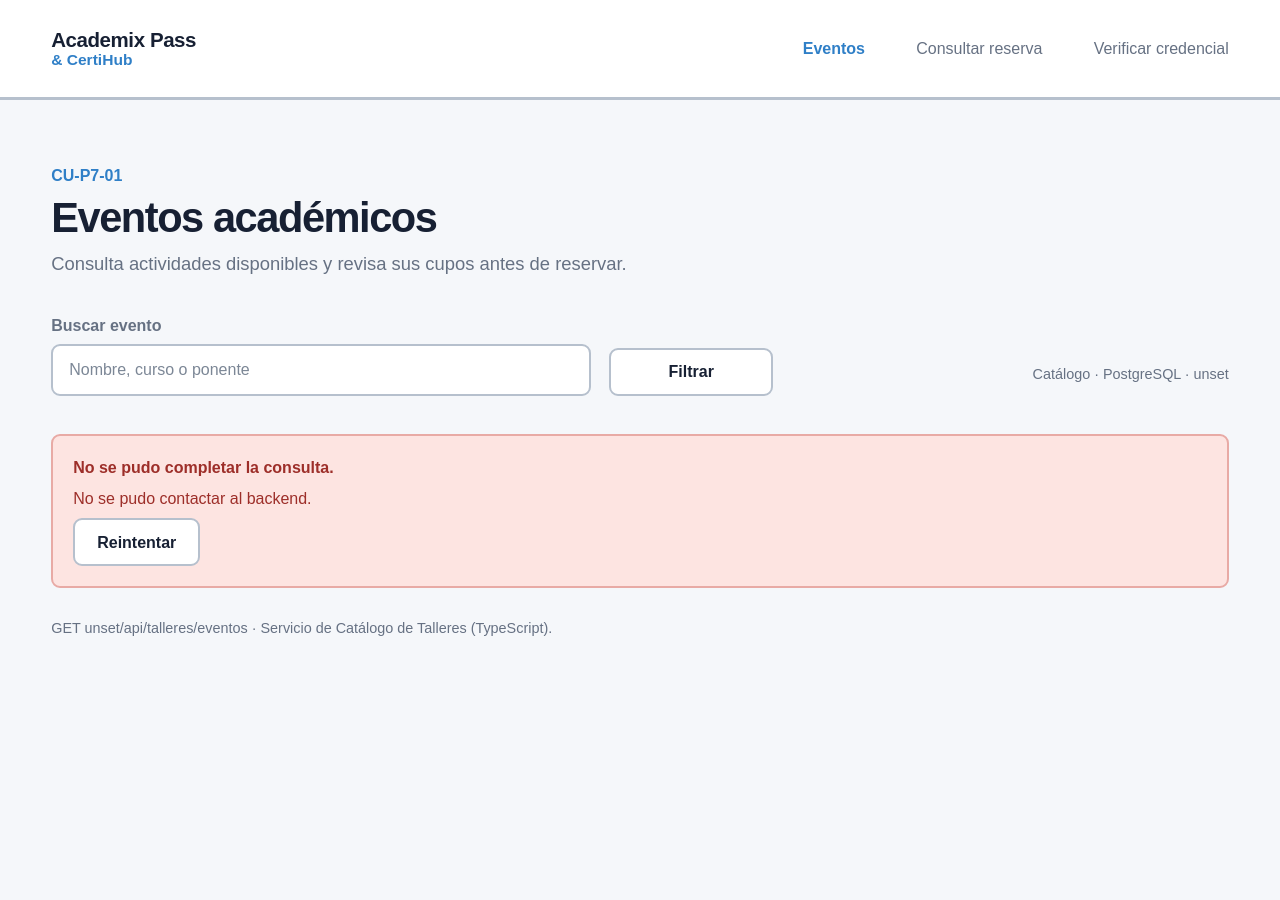
Test: Catálogo de eventos › muestra el estado de error y permite reintentar
This screenshot has width=1280, height=900.
Check: the text "No se pudo contactar al backend." is shown, box [73,487,312,510]
Click the button "Reintentar".
click(137, 542)  # box [73,518,200,566]
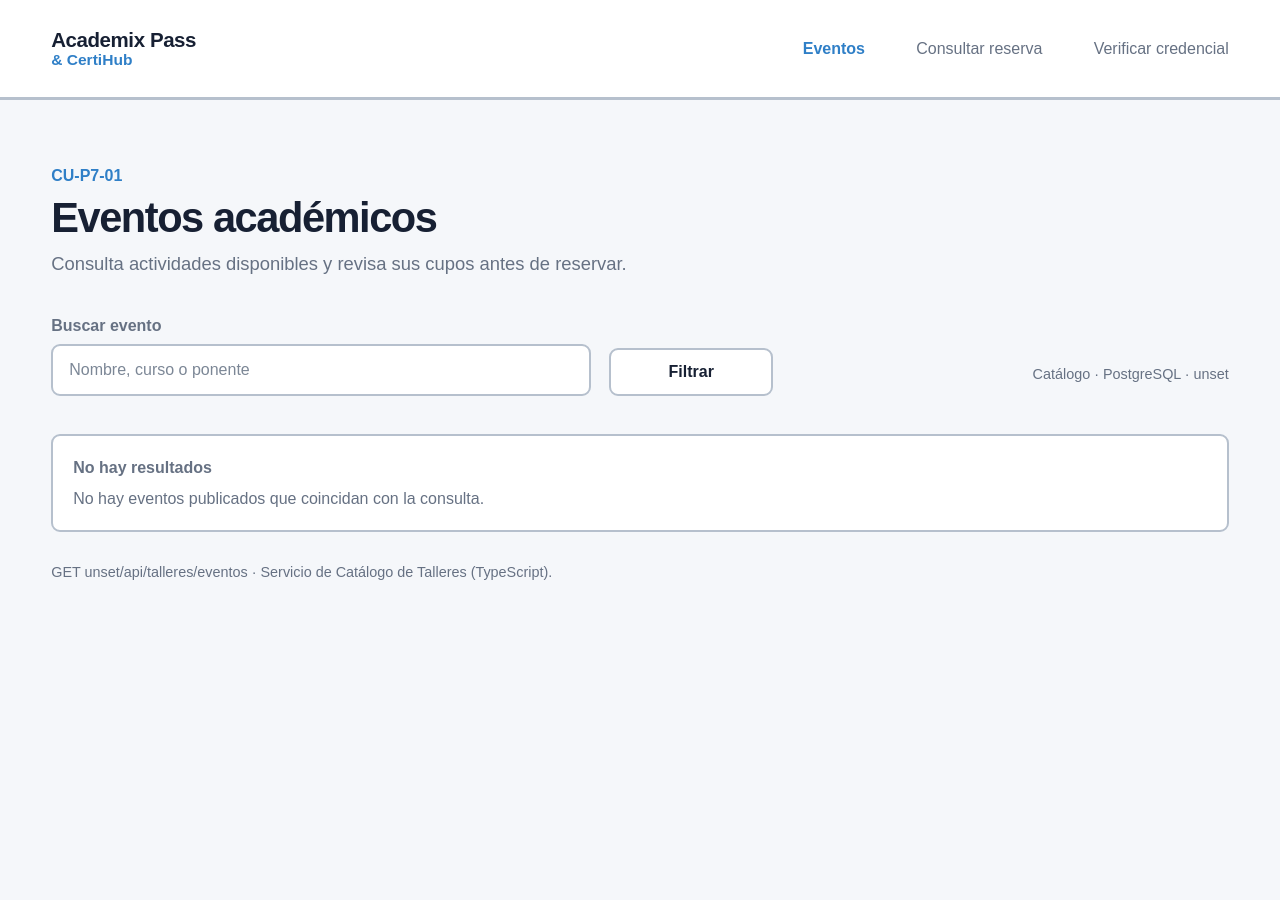
Check: the text "No hay resultados" is shown, box [73,456,212,479]
